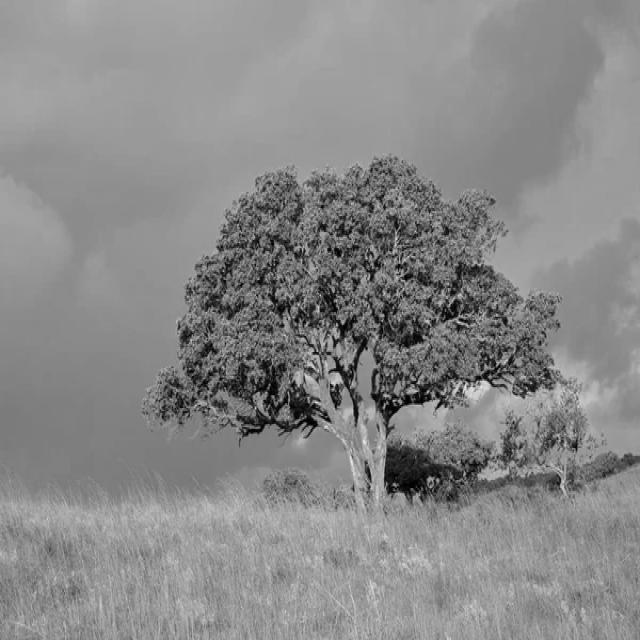Tree: (143, 156, 562, 507)
